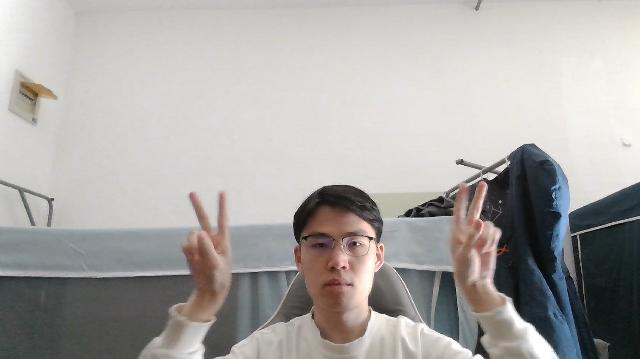two: (181, 188, 234, 295)
